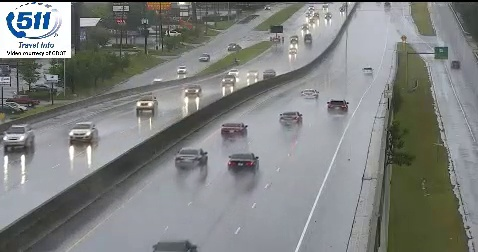car: (176, 148, 207, 171), (228, 153, 259, 173), (221, 122, 247, 140), (326, 99, 348, 115), (279, 111, 302, 126), (301, 88, 318, 100)
